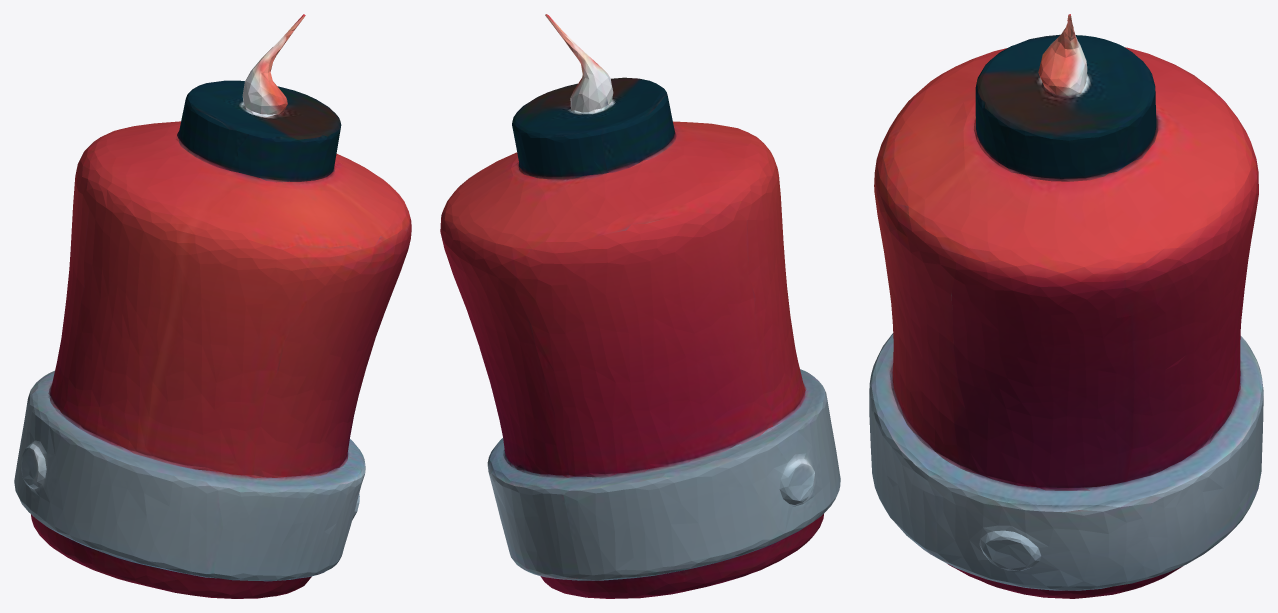
The model's file is flare.glb.
The picture shows the model from 3 angles, left to right: view 1: azimuth 30°, elevation 25°; view 2: azimuth 150°, elevation 25°; view 3: azimuth 270°, elevation 25°; orthographic projection. The views are drawn at different scales.
Parts seen in each view (by area): view 1: tmpetj52uo5.ply; view 2: tmpetj52uo5.ply; view 3: tmpetj52uo5.ply.
Boxes of the visible parts, box(x1,y1,x2,y2) form: tmpetj52uo5.ply: box(14, 14, 411, 598); tmpetj52uo5.ply: box(440, 14, 840, 598); tmpetj52uo5.ply: box(869, 14, 1263, 598).
Size of the model in its own units: 1.38 by 1.99 by 1.19.
Materials: 1 (1 with a texture image).
